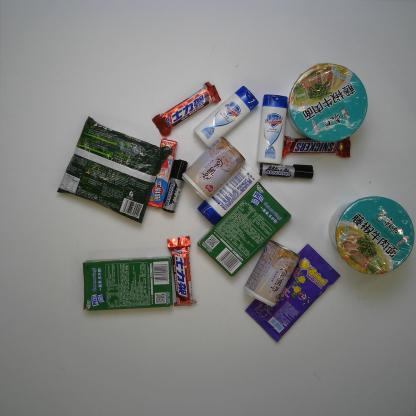Candy: (235, 239, 347, 348), (150, 129, 177, 212)
Canned Food: (184, 130, 244, 203), (248, 238, 305, 306)
Chocolate: (144, 82, 224, 141), (164, 235, 200, 313), (278, 132, 357, 162)
Dessert: (195, 176, 297, 278), (63, 246, 183, 327)
Instant Noodles: (52, 90, 170, 231), (280, 43, 377, 158), (319, 179, 414, 289)
Personal Hygiene: (191, 160, 264, 229), (191, 84, 262, 146), (255, 90, 295, 162)
Stationery: (159, 154, 191, 218), (253, 158, 324, 181)
